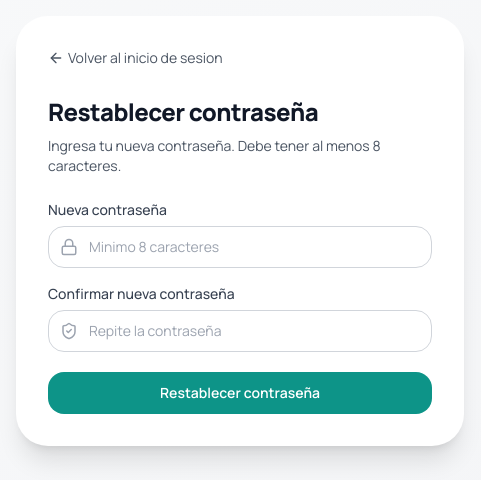
ResetPassword › envia la nueva contrasena al servicio cuando la validacion pasa
Type "newPassword123" into the password field labelled "Nueva contraseña" at (240,247), box x1=48 y1=226 x2=432 y2=268
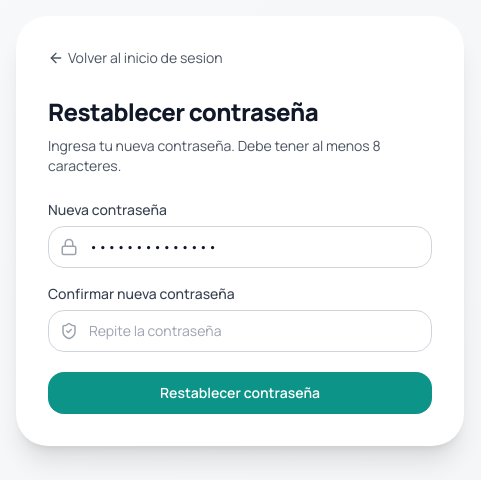
Type "newPassword123" into the password field labelled "Confirmar nueva contraseña" at (240,331), box x1=48 y1=310 x2=432 y2=352
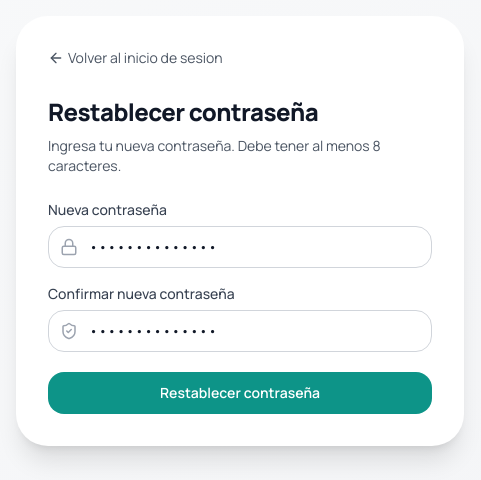
Click the button "Restablecer contraseña" at (240,393), box x1=48 y1=372 x2=432 y2=414
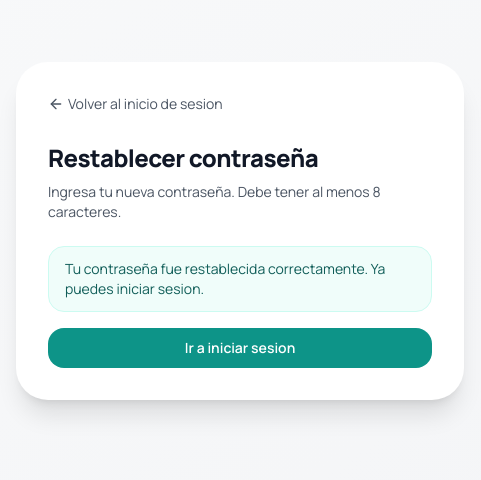
Expected: the text "Tu contraseña fue restablecida correctamente. Ya puedes iniciar sesion." is shown, x1=48 y1=246 x2=432 y2=312
